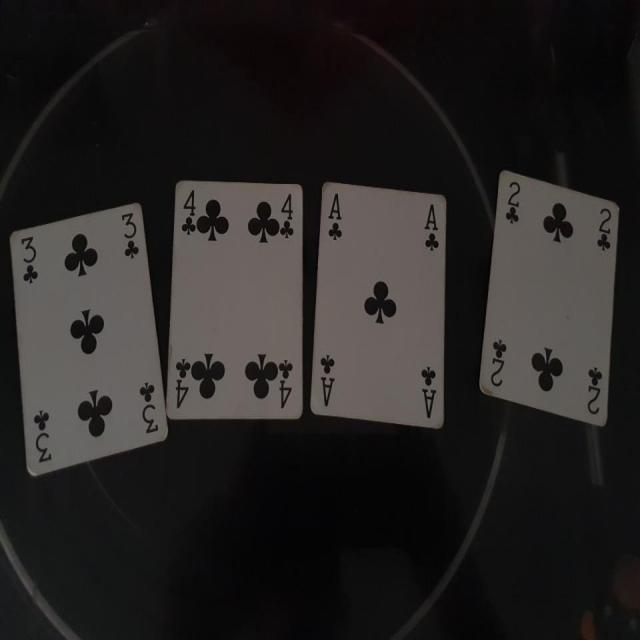2 of clubs: (478, 166, 620, 430)
3 of clubs: (7, 200, 170, 478)
4 of clubs: (166, 180, 306, 422)
ace of clubs: (310, 177, 448, 430)
